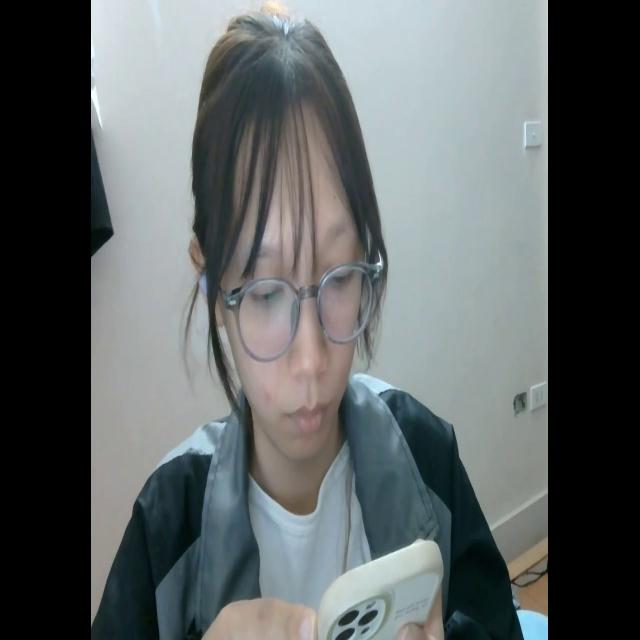phone: (315, 529, 445, 640)
student: (94, 8, 524, 640)
